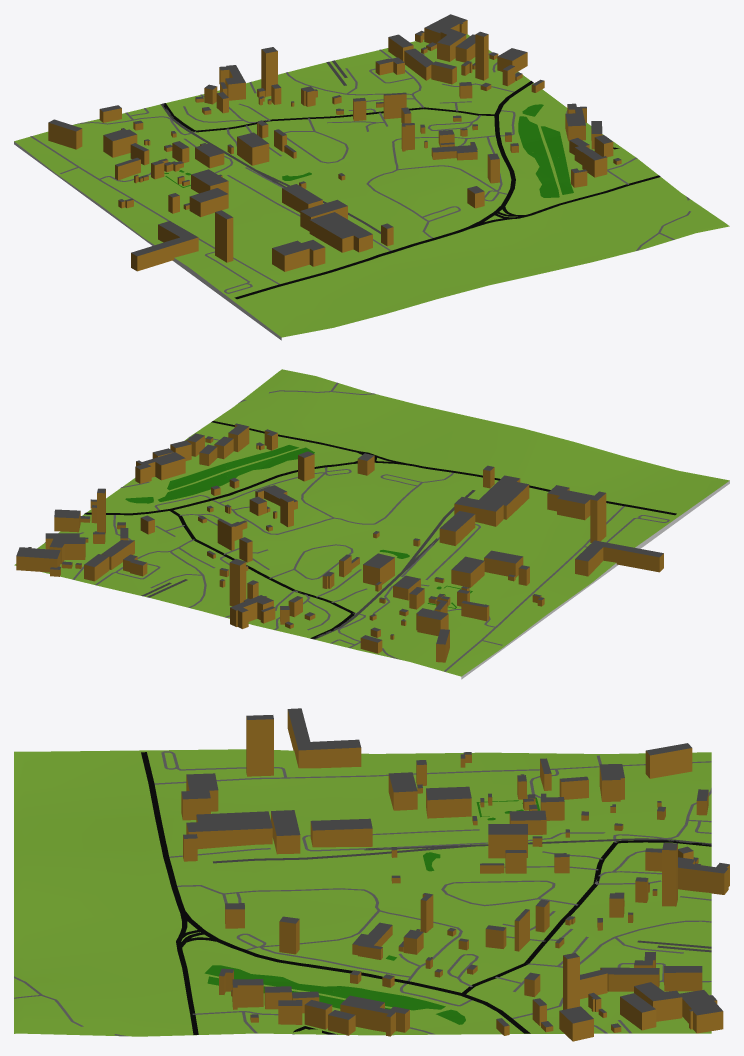
File: tile_00_02.glb
3 renders of one model, top to bottom at view 1: azimuth 30°, elevation 25°; view 2: azimuth 150°, elevation 25°; view 3: azimuth 270°, elevation 25°, orthographic. The views are drawn at different scales.
Visible parts, largest first — view 1: Terrain_00_02, Ub_small.osm_buildings_00_02, Ub_small.osm_roads_service_00_02, Ub_small.osm_forest_00_02, Ub_small.osm_roads_secondary_00_02, Ub_small.osm_roads_unclassified_00_02, Ub_small.osm_railways_00_02, Ub_small.osm_roads_tertiary_00_02; view 2: Terrain_00_02, Ub_small.osm_buildings_00_02, Ub_small.osm_roads_service_00_02, Ub_small.osm_forest_00_02, Ub_small.osm_roads_secondary_00_02, Ub_small.osm_railways_00_02, Ub_small.osm_roads_unclassified_00_02; view 3: Terrain_00_02, Ub_small.osm_buildings_00_02, Ub_small.osm_roads_service_00_02, Ub_small.osm_forest_00_02, Ub_small.osm_roads_secondary_00_02, Ub_small.osm_railways_00_02, Ub_small.osm_roads_unclassified_00_02, Ub_small.osm_roads_tertiary_00_02.
Part boxes in pixels (left/top/right/bottom): Terrain_00_02: left=14, top=34, right=729, bottom=340; Ub_small.osm_buildings_00_02: left=48, top=14, right=621, bottom=271; Ub_small.osm_roads_service_00_02: left=30, top=49, right=690, bottom=293; Ub_small.osm_forest_00_02: left=164, top=104, right=573, bottom=197; Ub_small.osm_roads_secondary_00_02: left=234, top=81, right=533, bottom=299; Ub_small.osm_roads_unclassified_00_02: left=162, top=103, right=494, bottom=132; Ub_small.osm_railways_00_02: left=160, top=60, right=380, bottom=233; Ub_small.osm_roads_tertiary_00_02: left=472, top=175, right=660, bottom=228; Terrain_00_02: left=14, top=369, right=729, bottom=679; Ub_small.osm_buildings_00_02: left=16, top=423, right=663, bottom=662; Ub_small.osm_roads_service_00_02: left=45, top=382, right=669, bottom=671; Ub_small.osm_forest_00_02: left=125, top=445, right=472, bottom=608; Ub_small.osm_roads_secondary_00_02: left=84, top=461, right=676, bottom=515; Ub_small.osm_railways_00_02: left=141, top=490, right=475, bottom=639; Ub_small.osm_roads_unclassified_00_02: left=170, top=510, right=354, bottom=638; Terrain_00_02: left=14, top=749, right=711, bottom=1036; Ub_small.osm_buildings_00_02: left=181, top=708, right=729, bottom=1041; Ub_small.osm_roads_service_00_02: left=14, top=751, right=711, bottom=1036; Ub_small.osm_forest_00_02: left=204, top=797, right=539, bottom=1024; Ub_small.osm_roads_secondary_00_02: left=141, top=752, right=530, bottom=1033; Ub_small.osm_railways_00_02: left=213, top=838, right=711, bottom=952; Ub_small.osm_roads_unclassified_00_02: left=462, top=840, right=711, bottom=993; Ub_small.osm_roads_tertiary_00_02: left=176, top=912, right=215, bottom=1034.
Size of the model in its own units: 1003 by 92.62 by 954.
